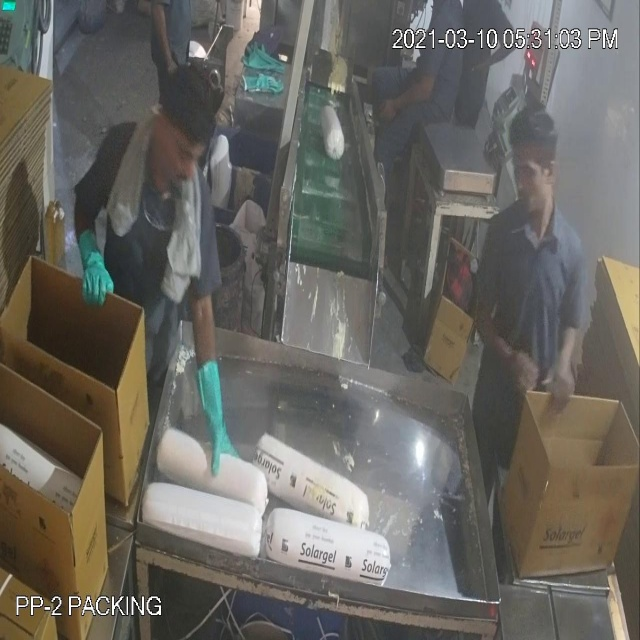Guantes: (192, 340, 239, 488), (69, 216, 122, 326)
Sin_guantes: (468, 279, 541, 420), (541, 292, 588, 425), (375, 68, 443, 140)
